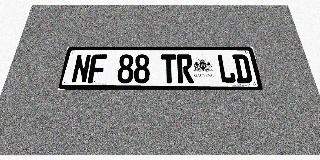8: (117, 54, 134, 83), (133, 54, 150, 83)
D: (232, 54, 253, 83)
F: (87, 54, 107, 83)
L: (216, 54, 237, 83)
N: (71, 54, 92, 83)
R: (177, 54, 194, 83)
T: (161, 54, 177, 83)
